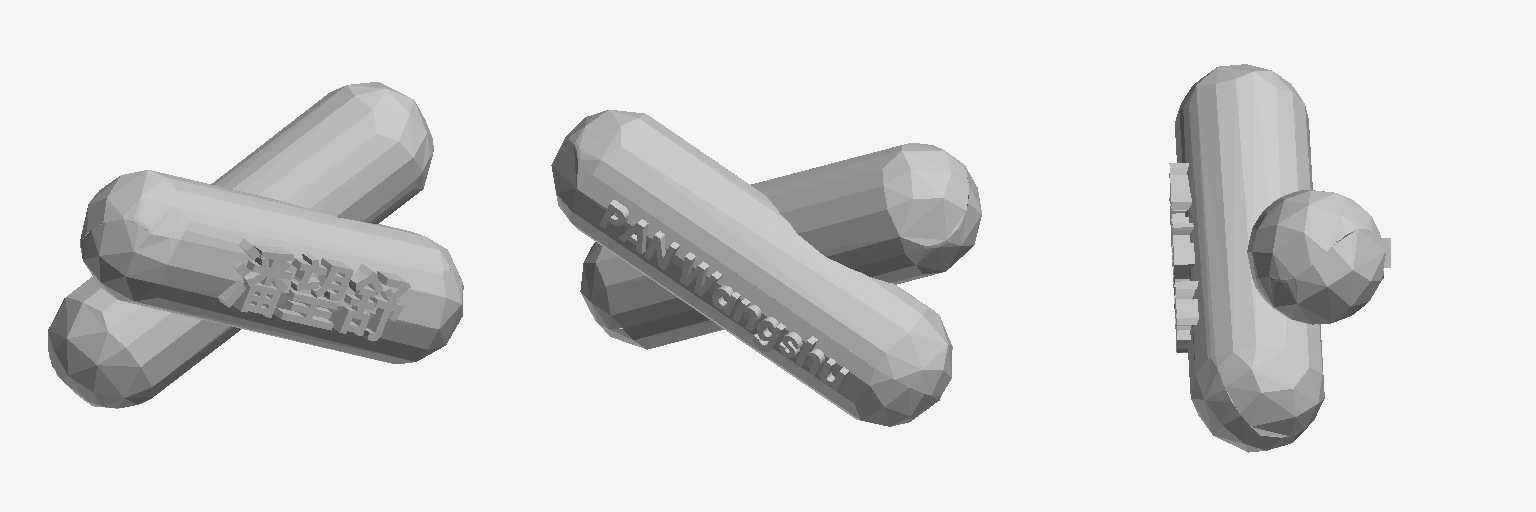
File: PanWangshu.obj
The picture shows the model from 3 angles: view 1: azimuth 30°, elevation 25°; view 2: azimuth 150°, elevation 25°; view 3: azimuth 270°, elevation 25°; orthographic projection.
Visible parts, largest first — view 1: root_3, root_2, node_id663; view 2: root_2, root_3, node_id674; view 3: root_3, root_2, node_id663.
Part boxes in pixels (x1,y1,x2,y2): root_3: (80,170,463,363); root_2: (48,82,433,408); node_id663: (218,239,410,340); root_2: (551,110,952,426); root_3: (580,143,981,349); node_id674: (599,200,849,391); root_3: (1175,64,1324,452); root_2: (1247,190,1385,324); node_id663: (1169,163,1198,352).
Bounding box in the file's own units: 0.289 × 0.1836 × 0.1467.